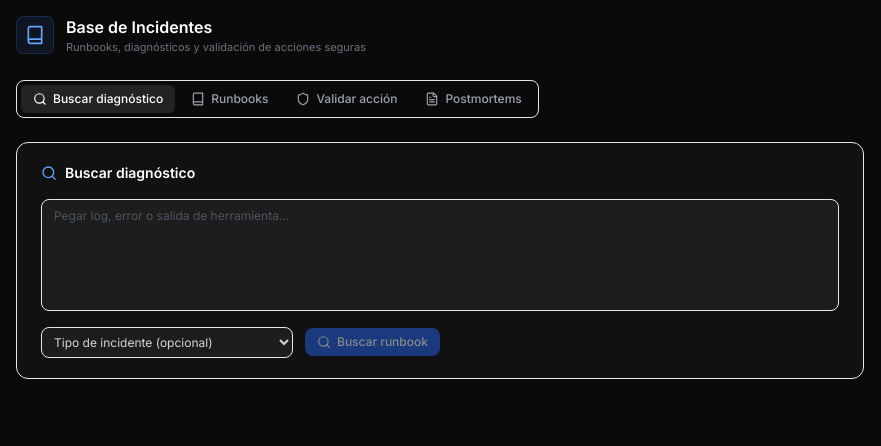
Search section › 401 response shows "No autenticado"
The width and height of the screenshot is (881, 446).
Type "log" into the text box with test id "knowledge-search-textarea" at (440, 254), box [41,198,839,310]
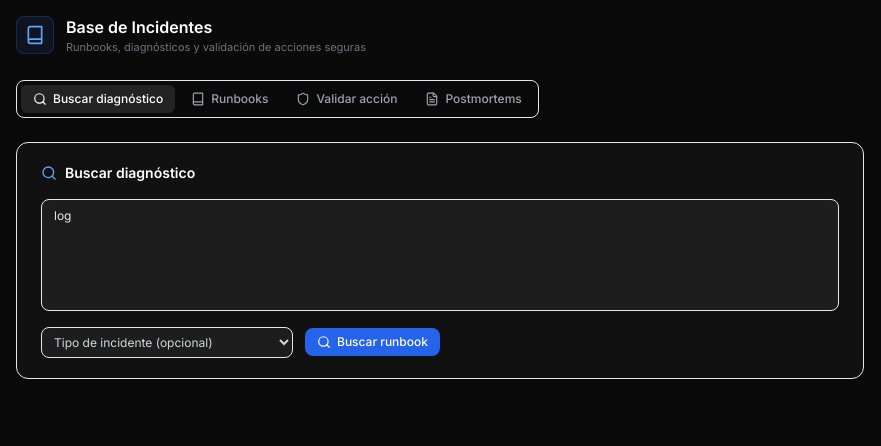
Click the button with test id "knowledge-search-btn" at (372, 342), box [305,328,440,356]
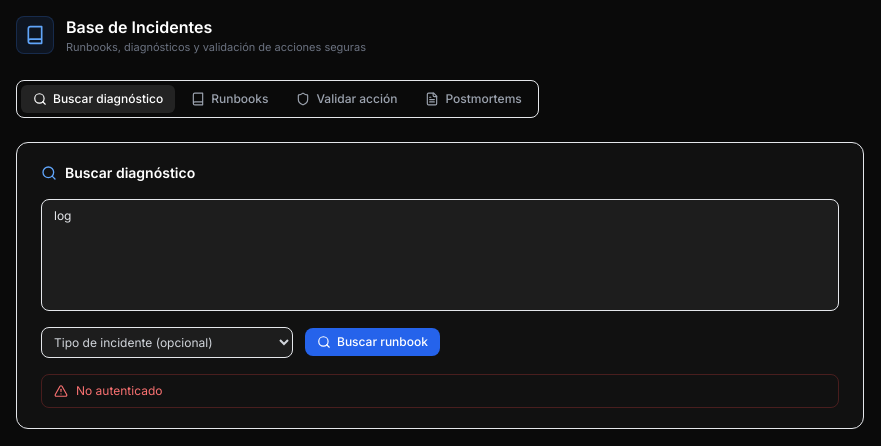
Expected: the text "No autenticado" is shown, [41,374,839,408]
